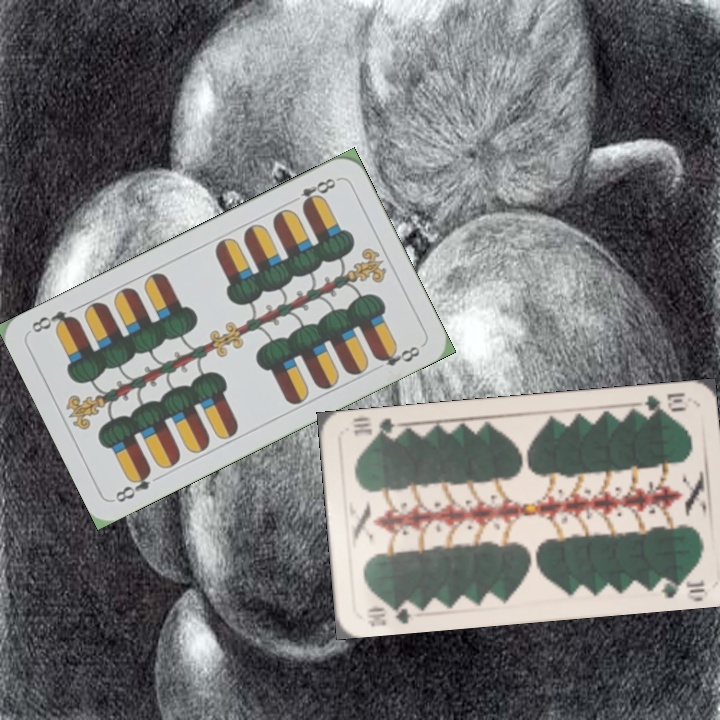E8: (285, 173, 341, 211), (111, 464, 154, 505)
G10: (632, 388, 688, 418), (363, 598, 414, 628)
